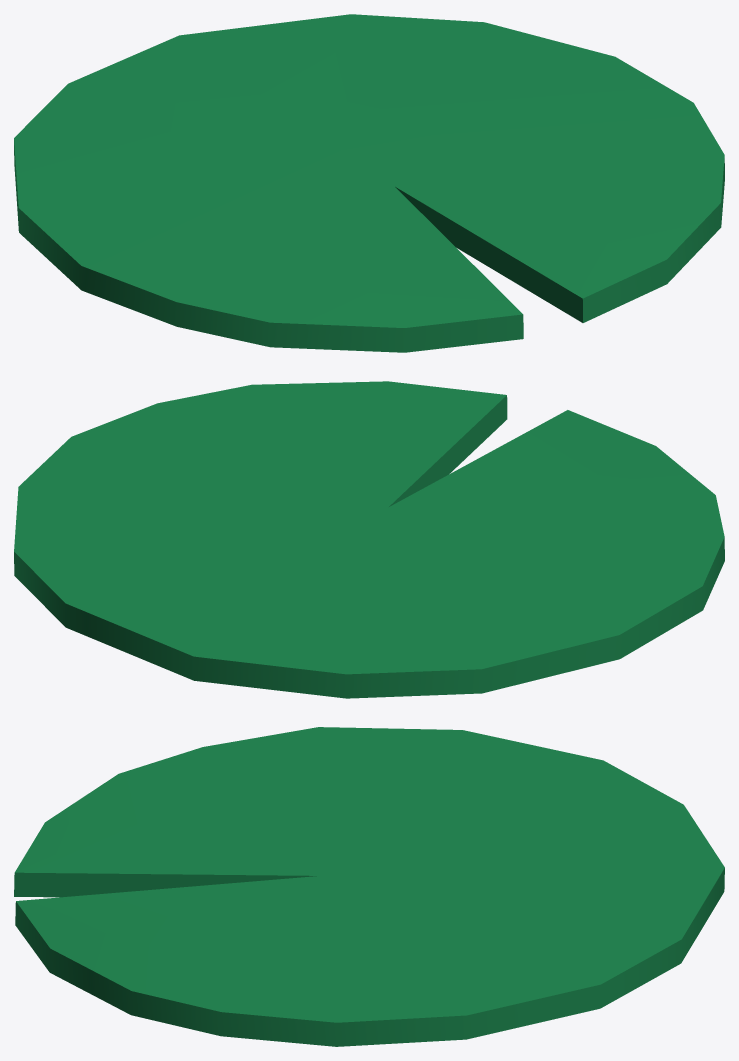
The model's file is plant_mushroom_leaf_F_small.fbx.
3 views of the same model, one above another, from view 1: azimuth 30°, elevation 25°; view 2: azimuth 150°, elevation 25°; view 3: azimuth 270°, elevation 25° (orthographic).
Visible parts, largest first — view 1: plant_mushroom_leaf_F_small; view 2: plant_mushroom_leaf_F_small; view 3: plant_mushroom_leaf_F_small.
Part boxes in pixels (bbox=[...]): plant_mushroom_leaf_F_small: bbox=[14, 14, 724, 352]; plant_mushroom_leaf_F_small: bbox=[14, 381, 724, 698]; plant_mushroom_leaf_F_small: bbox=[14, 727, 724, 1046].
Bounding box in the file's own units: 19.17 × 1.11 × 19.19.
